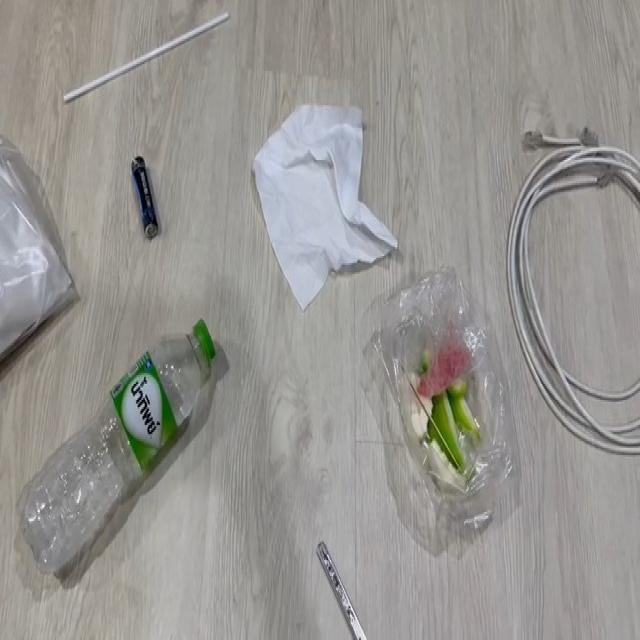Anorganik: (32, 353, 230, 553), (251, 92, 389, 316), (0, 166, 81, 378), (70, 30, 232, 94), (314, 546, 376, 640)
B3: (392, 293, 538, 532), (526, 139, 640, 441), (130, 145, 164, 250)
